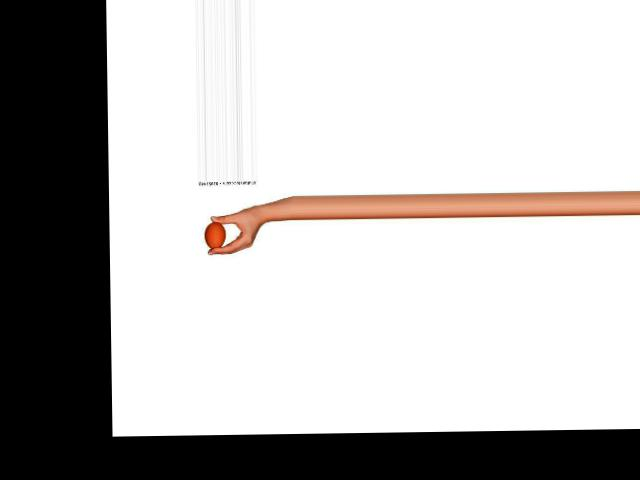egg: (204, 221, 225, 250)
